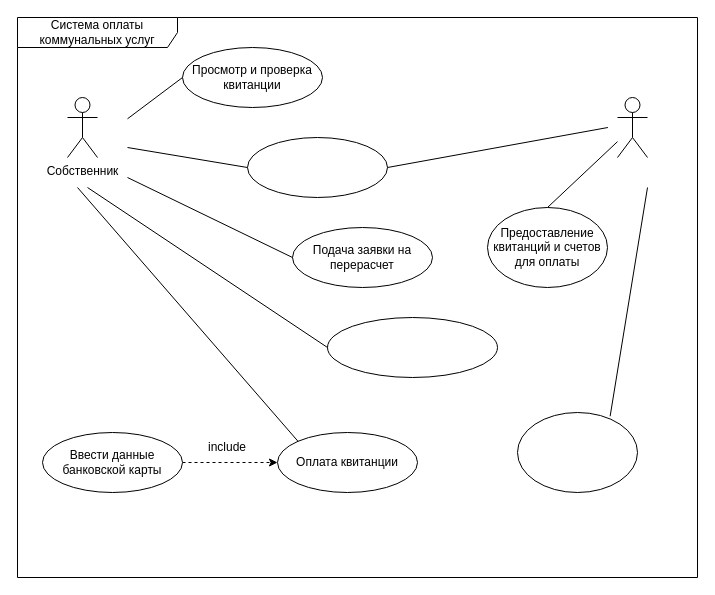
Image size: 715x595. Some labels were removed from this diagram. Each missing label, with the centre of its shape:
Автоматическая отправка уведомлений: point (577, 452)
Использование доп. услуг: point (412, 347)
Подача показаний счетчиков в РЦ: point (317, 167)
Приложение: point (632, 127)
